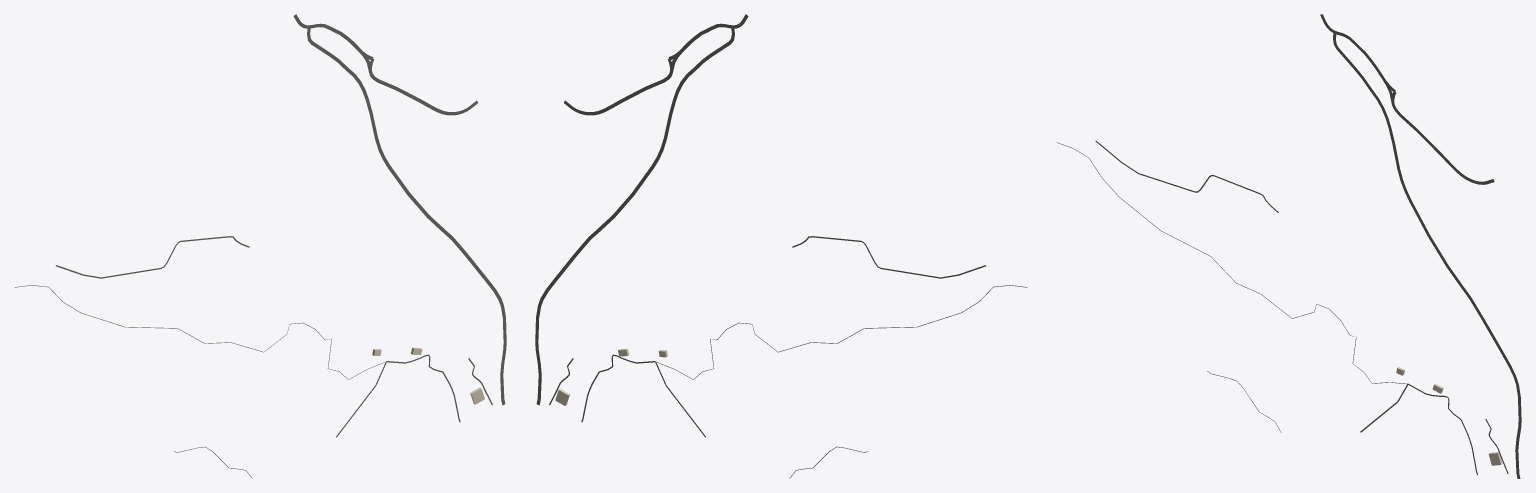
File: historic-palestine-09_25_3511_3192.glb
3 renders of one model, left to right at view 1: azimuth 30°, elevation 25°; view 2: azimuth 150°, elevation 25°; view 3: azimuth 330°, elevation 25°, orthographic. The views are drawn at different scales.
Visible parts, largest first — view 1: Road Ras Karkar, Road .001; view 2: Road Ras Karkar, Road .001; view 3: Road Ras Karkar.
Boxes of the visible parts, x1,y1,x2,y2 form: Road Ras Karkar: [307, 27, 506, 405]; Road .001: [14, 285, 386, 379]; Road Ras Karkar: [535, 27, 734, 405]; Road .001: [655, 285, 1027, 379]; Road Ras Karkar: [1333, 32, 1521, 478].
Bounding box in the file's own units: 1247 × 1099 × 8.7.
